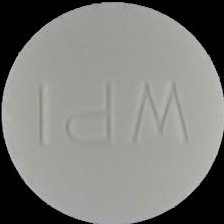51079-216: (0, 0, 224, 224)
